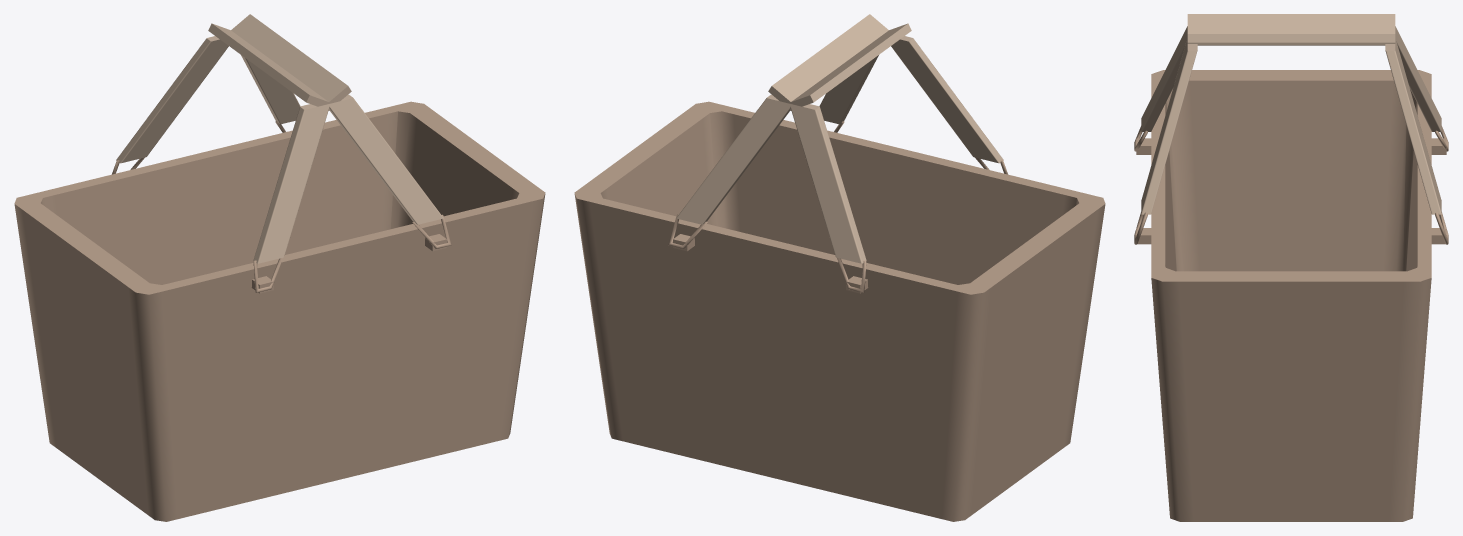
3 views of the same model, side by side, from view 1: azimuth 30°, elevation 25°; view 2: azimuth 150°, elevation 25°; view 3: azimuth 270°, elevation 25° (orthographic). The views are drawn at different scales.
Visible parts, largest first — view 1: carry_box; view 2: carry_box; view 3: carry_box.
Boxes of the visible parts, x1,y1,x2,y2 form: carry_box: [14, 14, 545, 521]; carry_box: [574, 14, 1105, 521]; carry_box: [1134, 14, 1448, 521].
Bounding box in the file's own units: 0.4 × 0.358 × 0.251.
